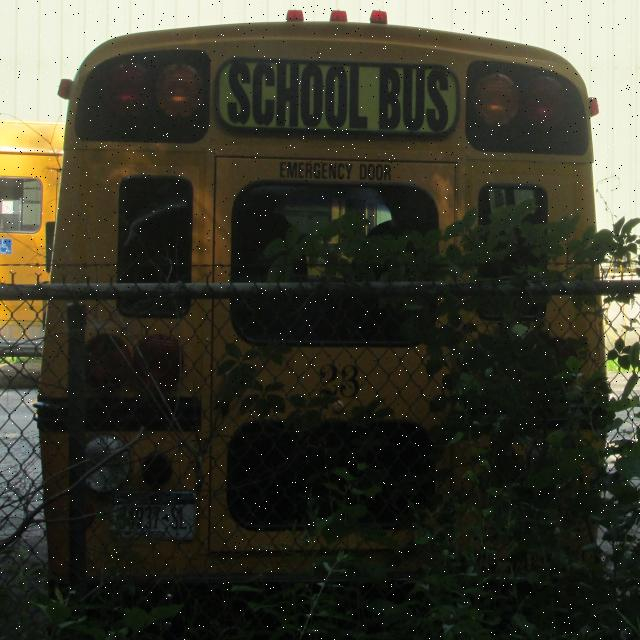Bus: (40, 5, 604, 588), (1, 117, 61, 340)
